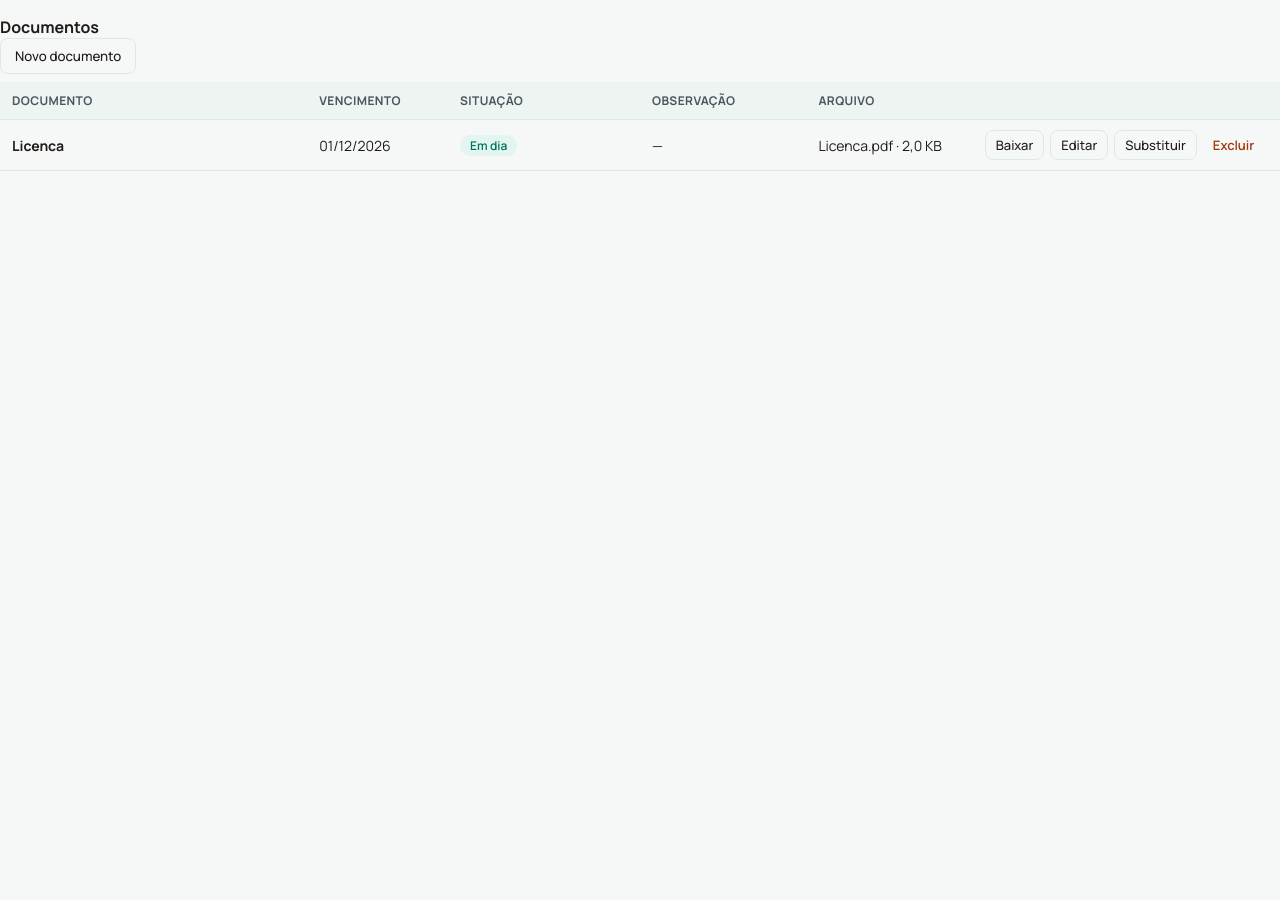
Test: SupplierDocumentsSection › modal Substituir mostra o nome do documento e o arquivo atual
This screenshot has width=1280, height=900.
Click the button "Substituir": (1156, 145) [1114, 130, 1197, 160]
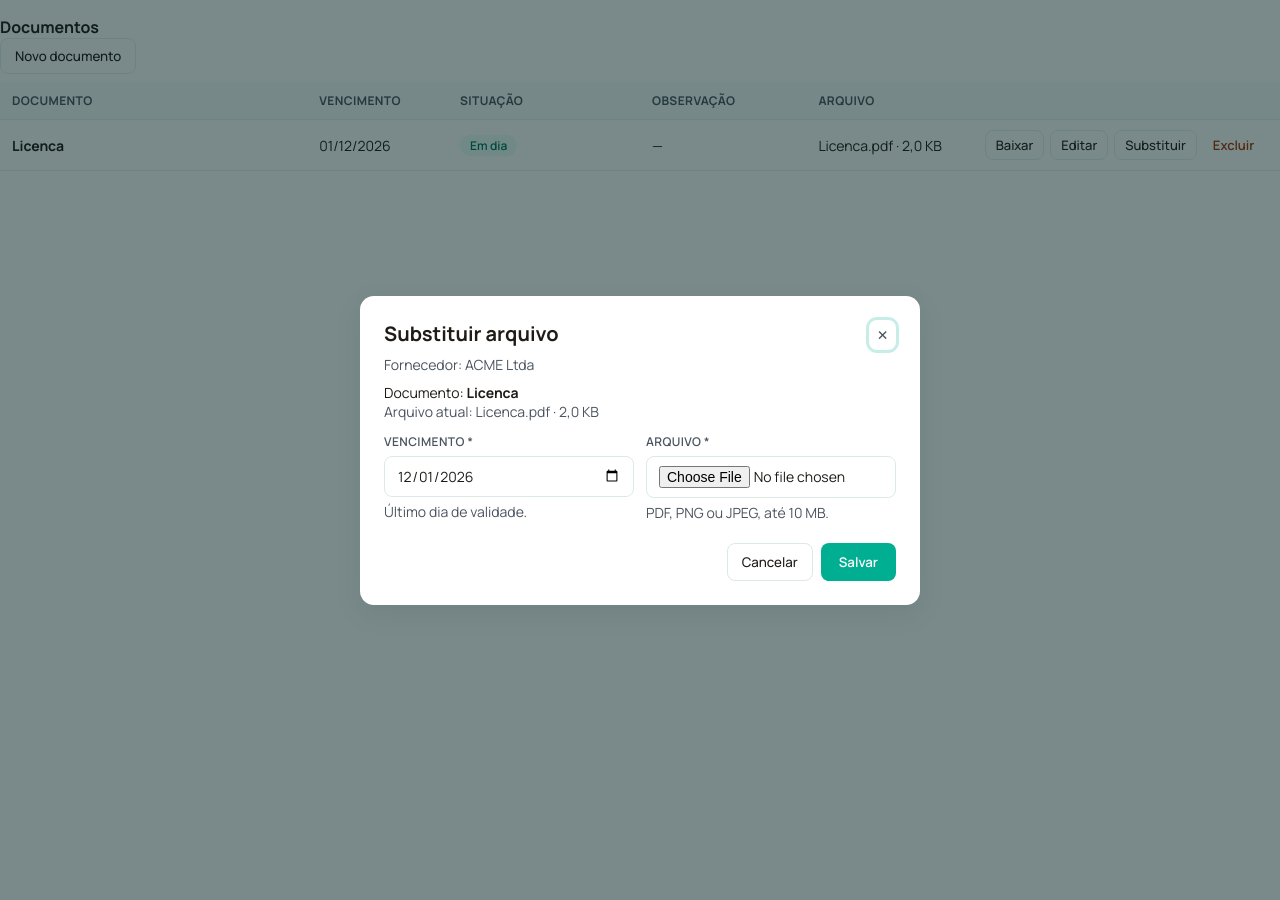
expect the text "Arquivo atual: Licenca.pdf · 2,0 KB" is shown: met, box [384, 402, 599, 420]
